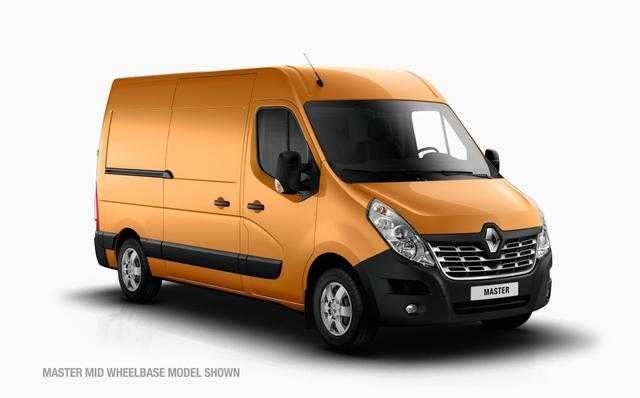van: (95, 66, 555, 355)
